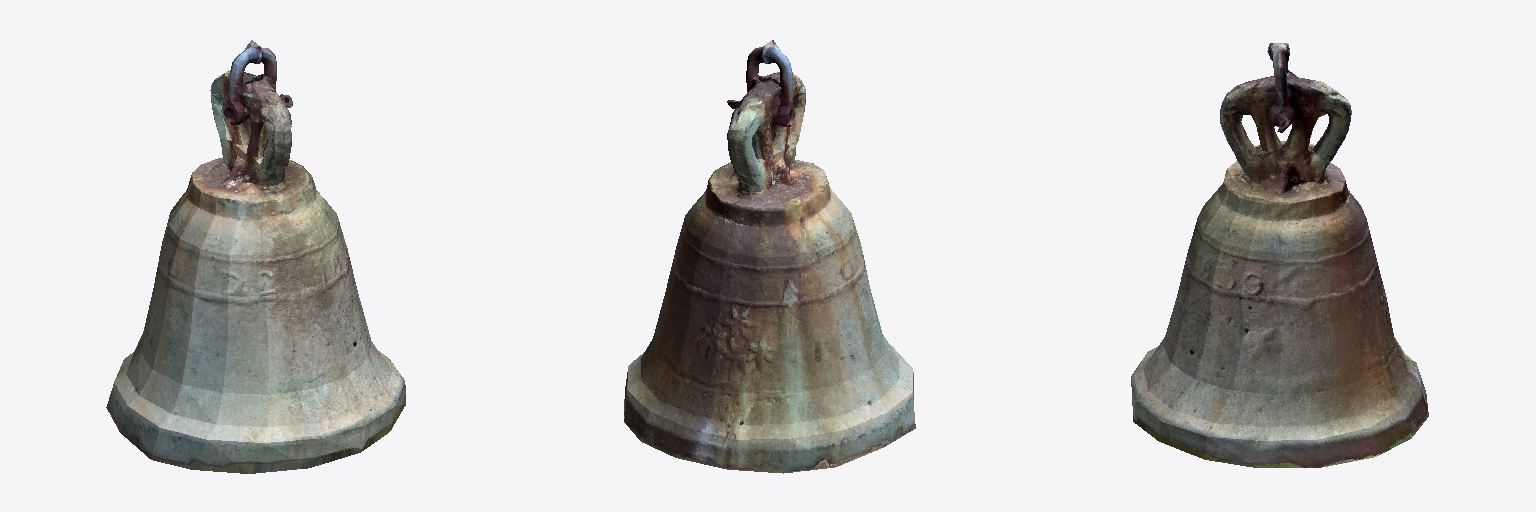
The picture shows the model from 3 angles: view 1: azimuth 30°, elevation 25°; view 2: azimuth 150°, elevation 25°; view 3: azimuth 270°, elevation 25°; orthographic projection.
Parts seen in each view (by area): view 1: RetopoFlow_Baked; view 2: RetopoFlow_Baked; view 3: RetopoFlow_Baked.
Part boxes in pixels (x1,y1,x2,y2): RetopoFlow_Baked: (106, 40, 405, 473); RetopoFlow_Baked: (624, 40, 915, 473); RetopoFlow_Baked: (1131, 43, 1428, 467).
Size of the model in its own units: 0.3682 by 0.5939 by 0.376.
1 materials, 1 textured.